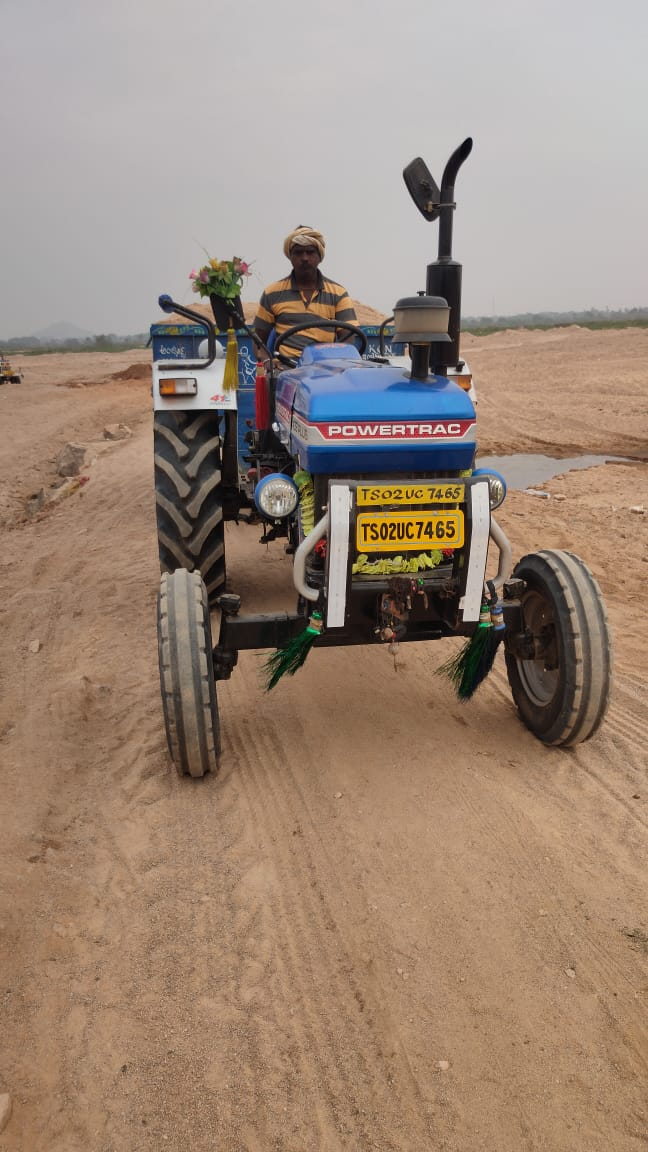num_plate: (354, 514, 464, 550)
